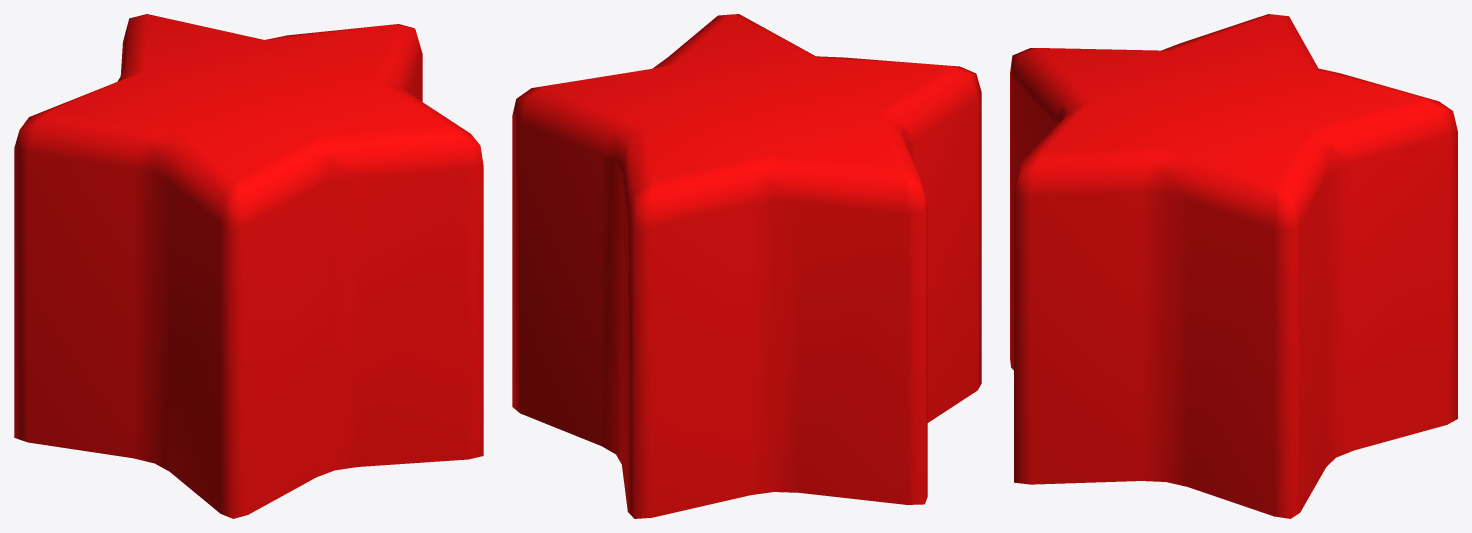
Rendered from block_shapes_star_01.FBX.
3 renders of one model, left to right at view 1: azimuth 30°, elevation 25°; view 2: azimuth 150°, elevation 25°; view 3: azimuth 270°, elevation 25°, orthographic.
Visible parts, largest first — view 1: block_shapes_star_01; view 2: block_shapes_star_01; view 3: block_shapes_star_01.
Part boxes in pixels (x1,y1,x2,y2): block_shapes_star_01: (14, 14, 483, 518); block_shapes_star_01: (512, 14, 981, 518); block_shapes_star_01: (1010, 14, 1457, 518).
Size of the model in its own units: 435 by 329 by 415.
